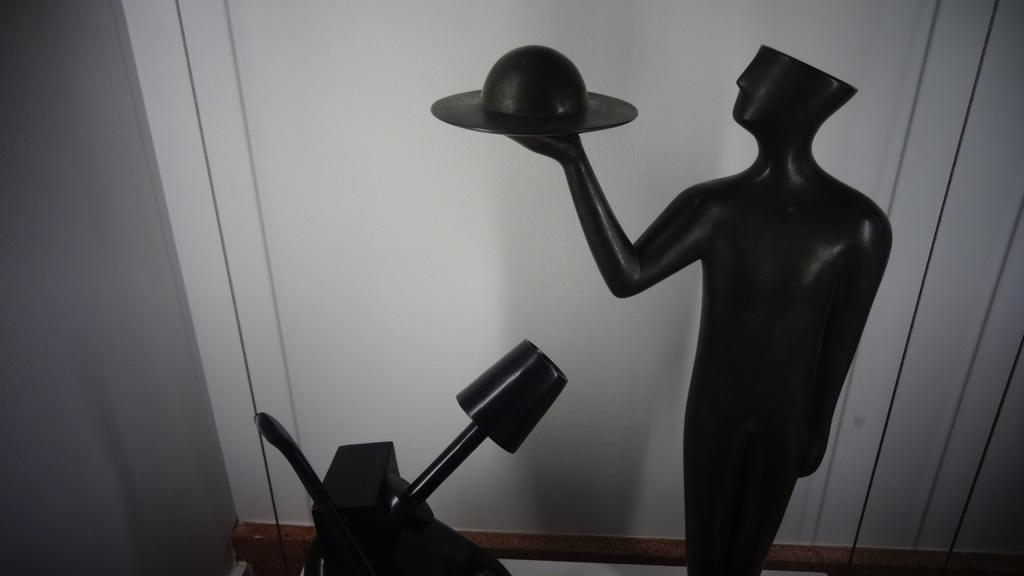Hat: (429, 46, 638, 136)
